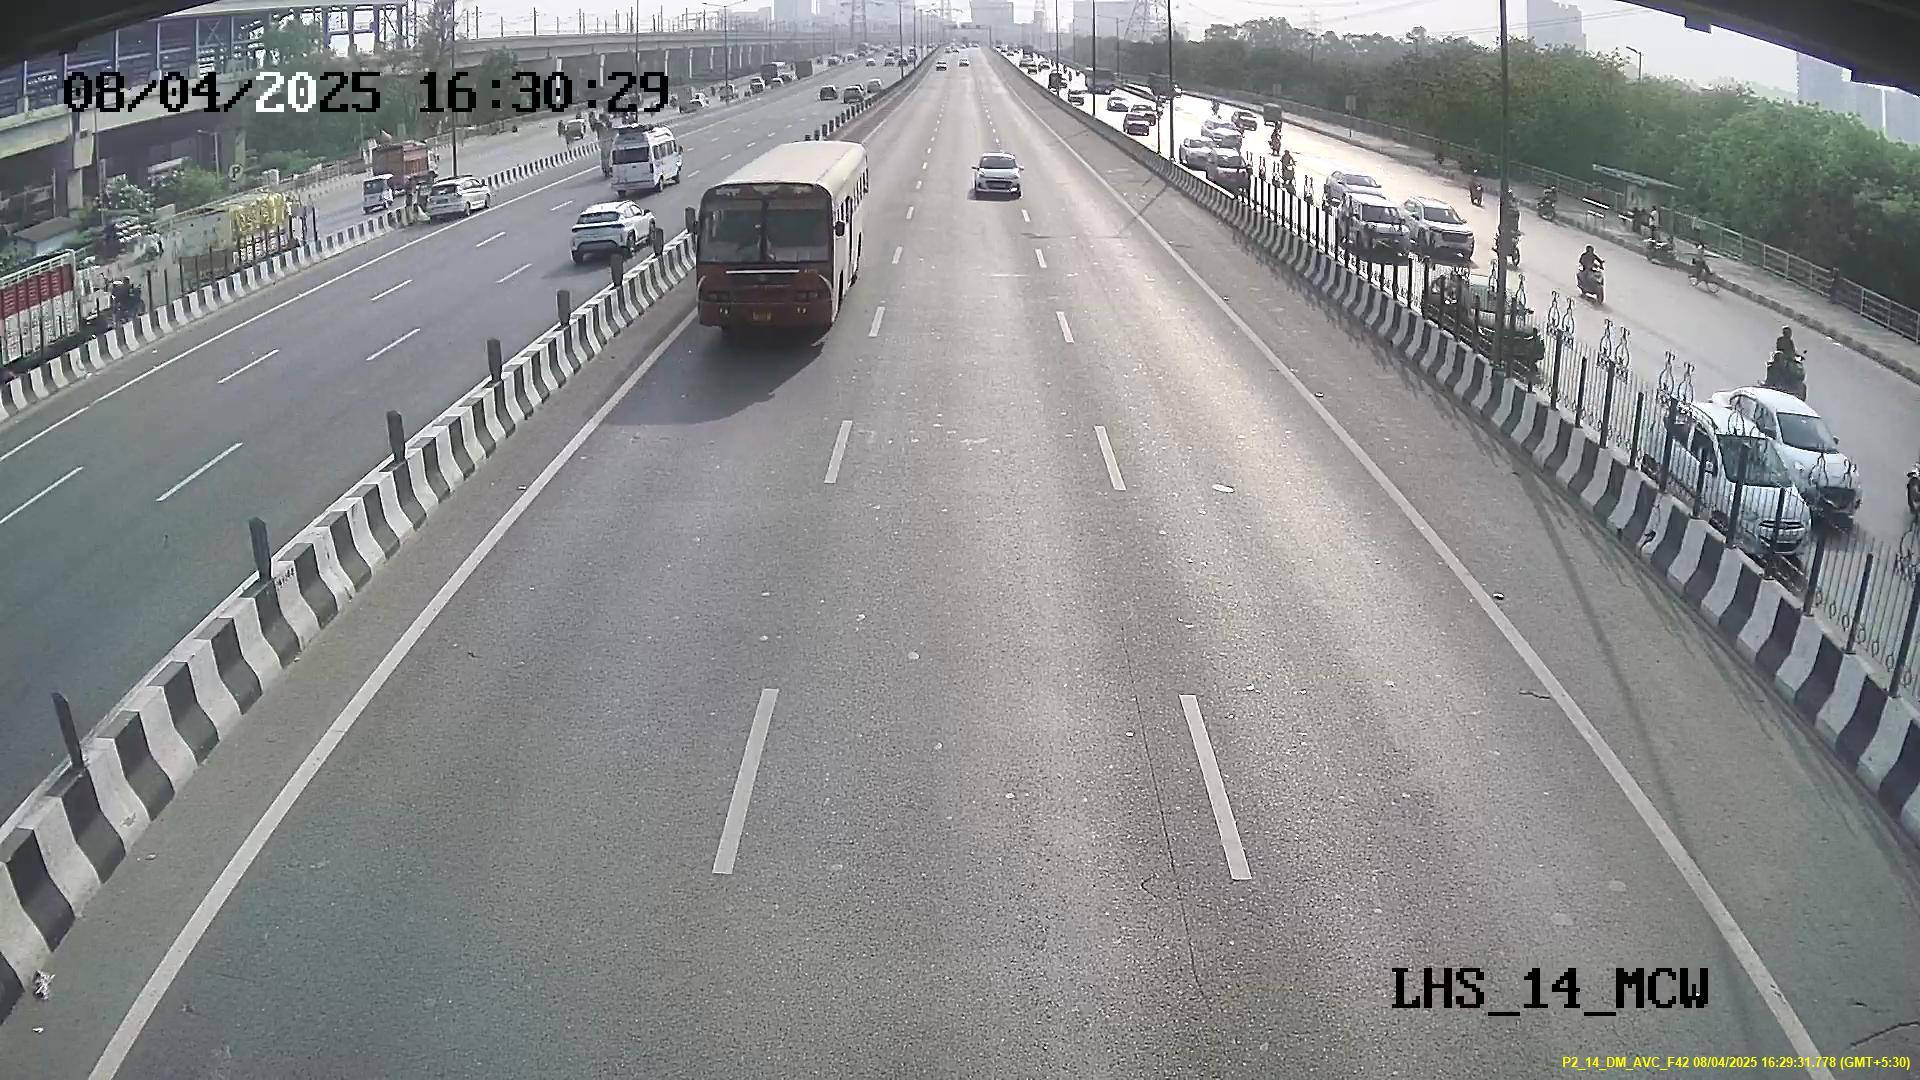bus: (686, 173, 858, 344)
